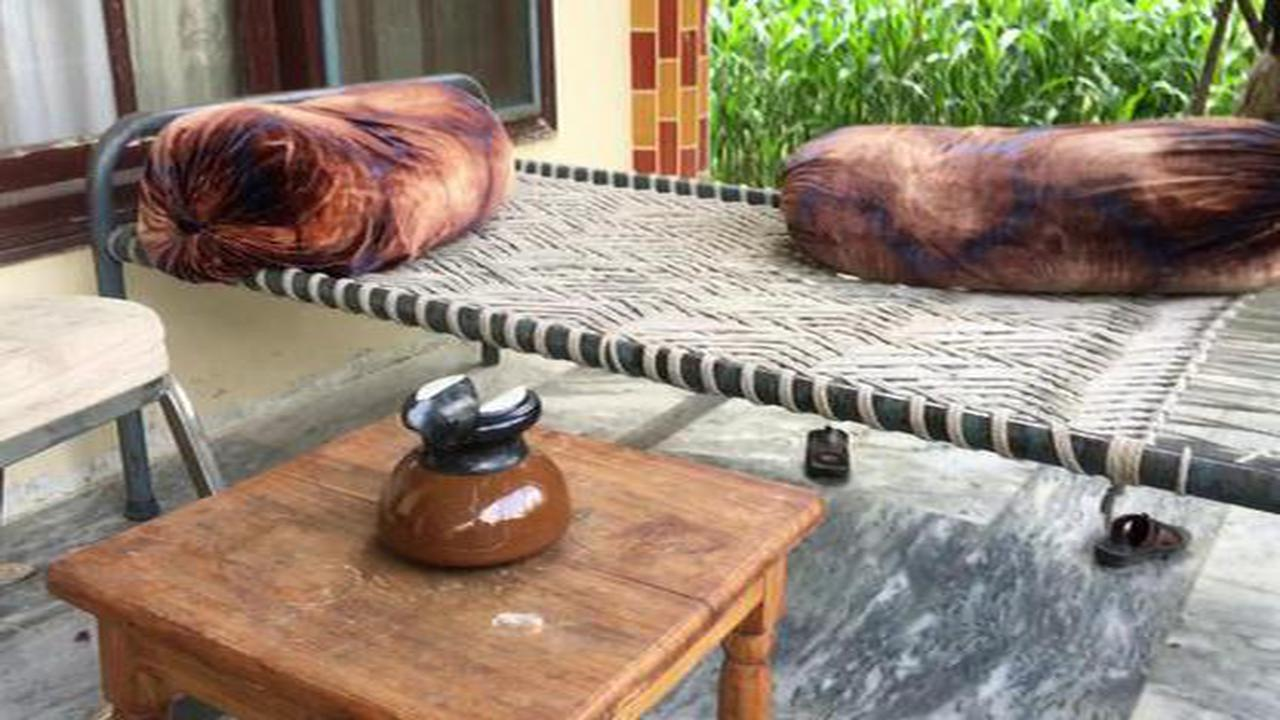insulator_pin: (348, 362, 588, 591)
